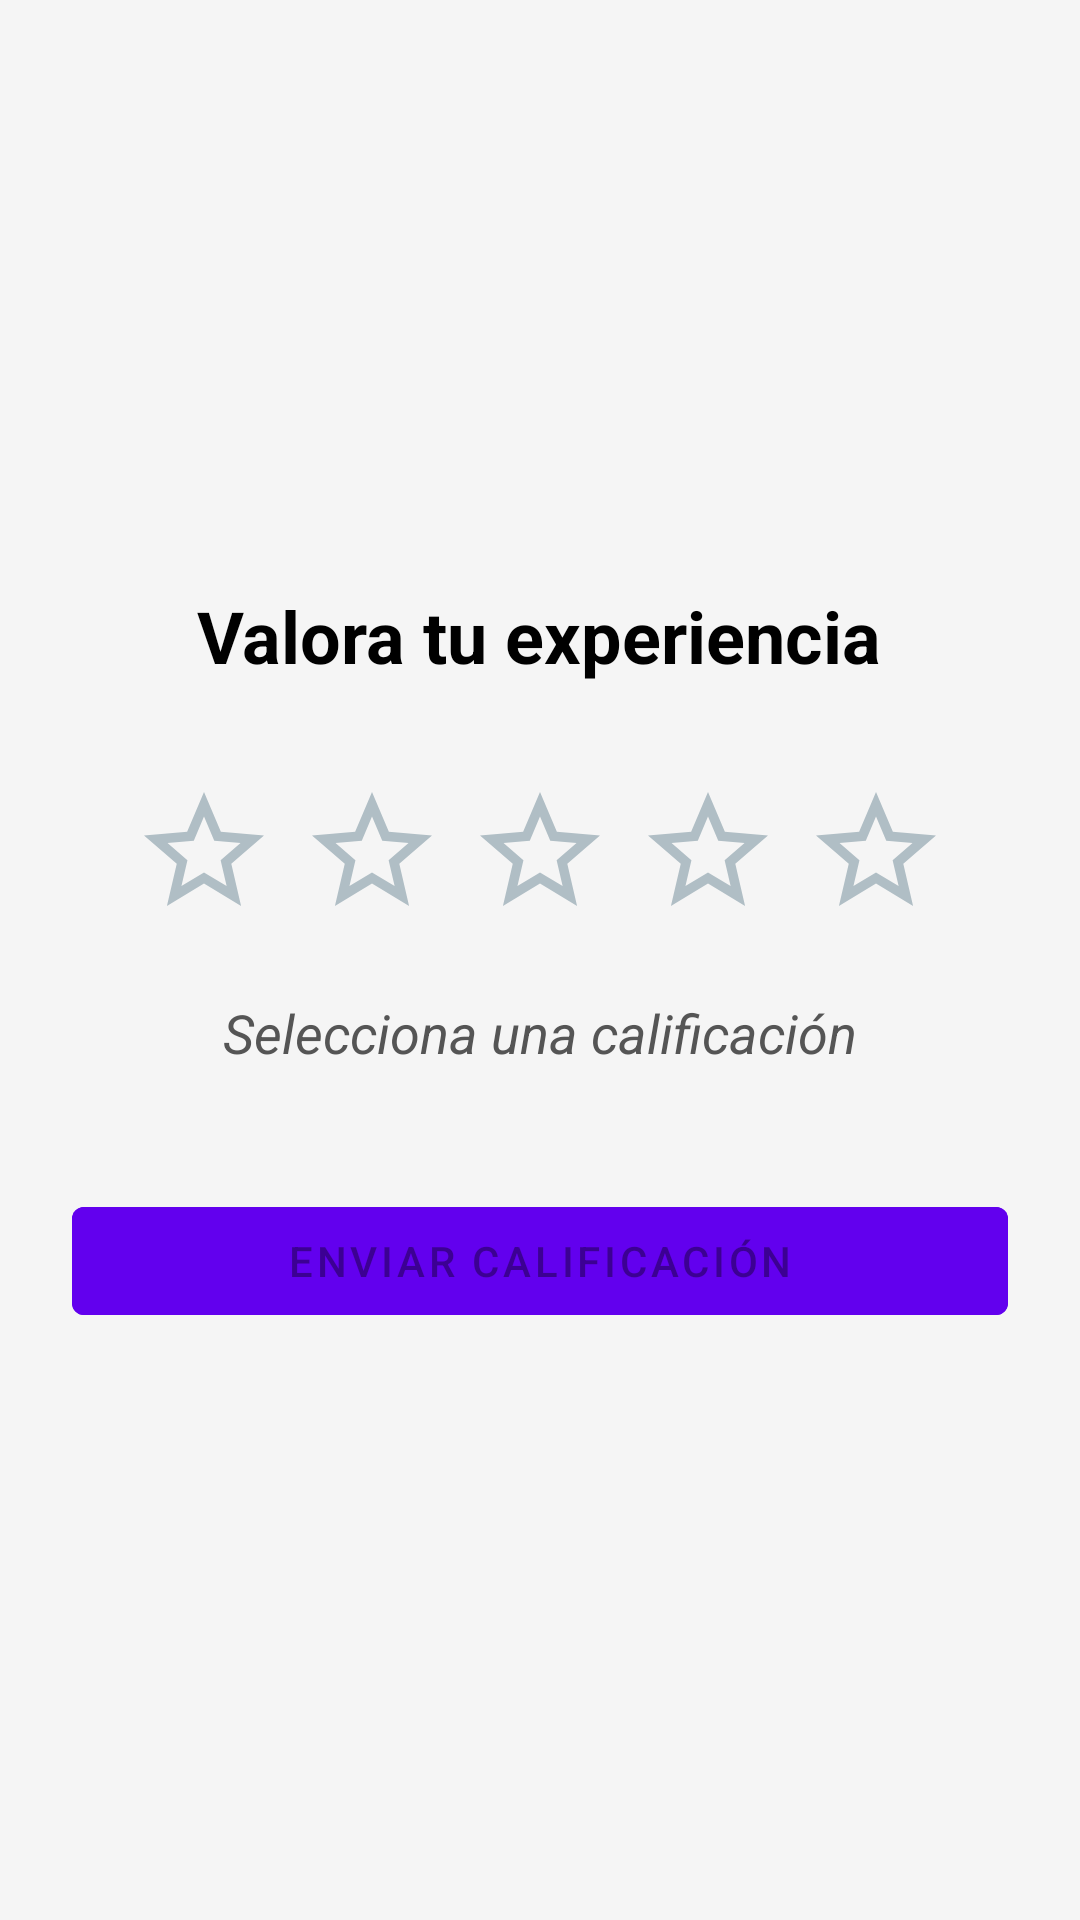

Where icons sit on this 1080x1920 app screen, as [x1=x1, y1=y1, x2=x2, y2=y2]:
star border: [x1=144, y1=793, x2=264, y2=906], [x1=312, y1=793, x2=432, y2=906], [x1=480, y1=793, x2=600, y2=906], [x1=648, y1=793, x2=768, y2=906], [x1=816, y1=793, x2=936, y2=906]
